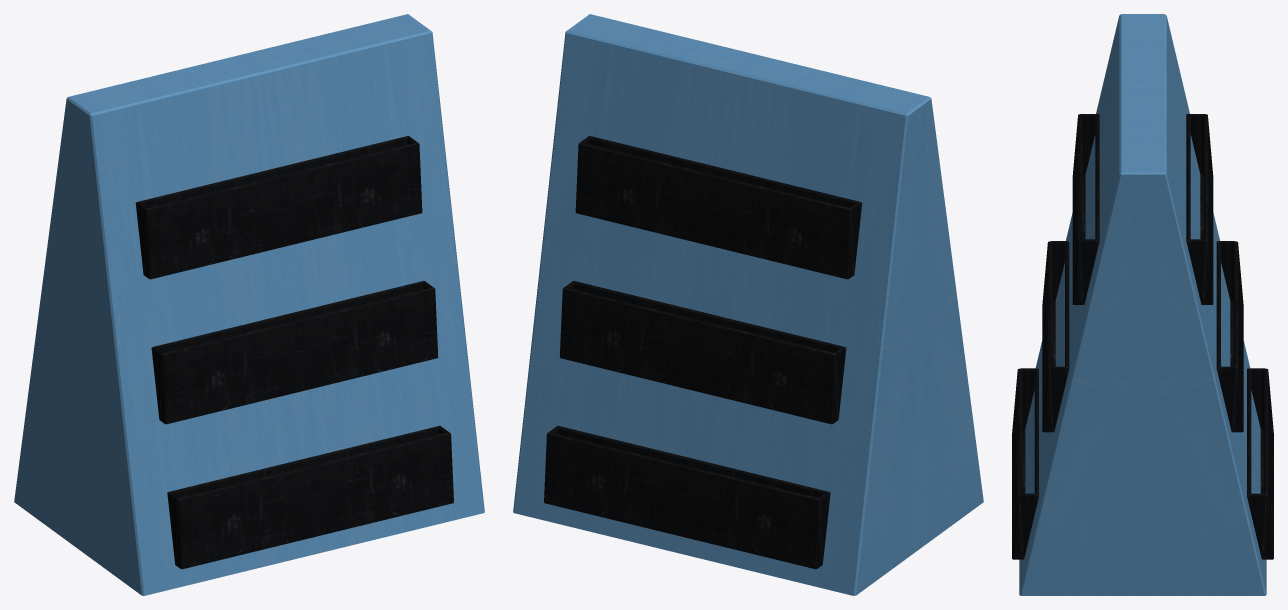
Rendered from Rack_1.fbx.
3 views of the same model, side by side, from view 1: azimuth 30°, elevation 25°; view 2: azimuth 150°, elevation 25°; view 3: azimuth 270°, elevation 25° (orthographic). The views are drawn at different scales.
Visible parts, largest first — view 1: Rack_1; view 2: Rack_1; view 3: Rack_1.
Part boxes in pixels (x1,y1,x2,y2): Rack_1: (14, 14, 484, 595); Rack_1: (513, 14, 983, 595); Rack_1: (1012, 14, 1273, 595).
Size of the model in its own units: 0.9714 by 1.2 by 0.6728.
